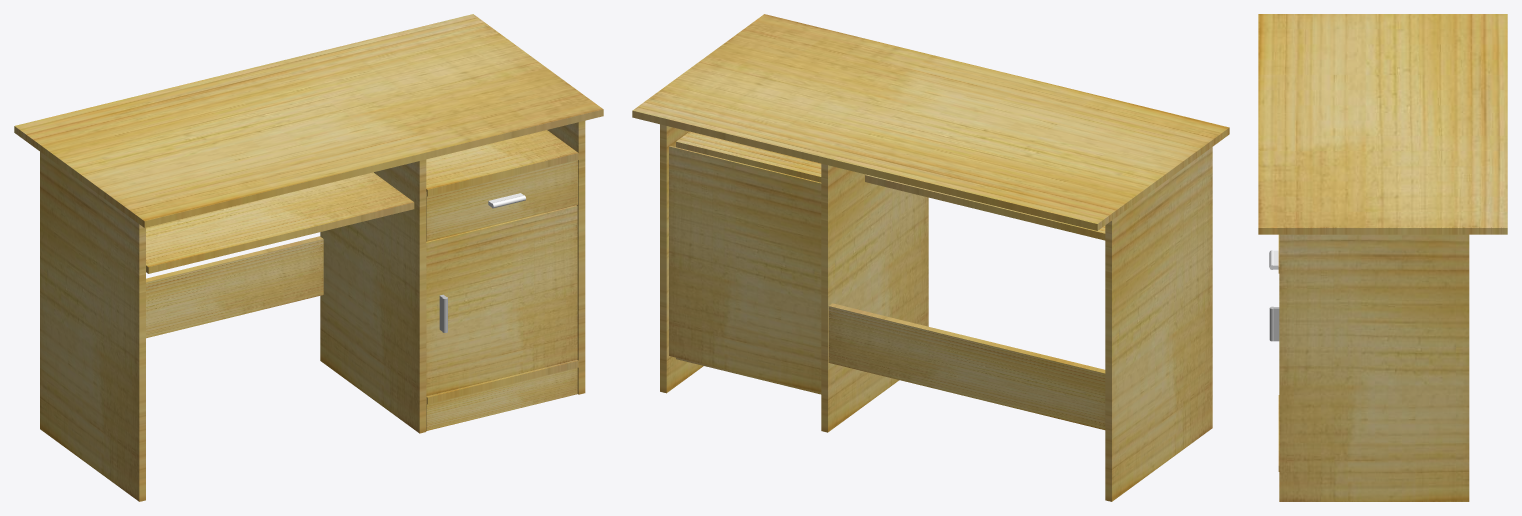
Rendered from bedroom_pcdesk.obj.
3 renders of one model, left to right at view 1: azimuth 30°, elevation 25°; view 2: azimuth 150°, elevation 25°; view 3: azimuth 270°, elevation 25°, orthographic. The views are drawn at different scales.
Parts seen in each view (by area): view 1: Cube_1_1, Cube_2_1_3, Cube_3_5, Cube_2_2, Cube_6_8, Cube_7_9, Cube_4_6, Cube_8_10, Cube_5_7, Cube_2_2_4, Cube_8_1_16; view 2: Cube_1_1, Cube_3_1_11, Cube_2_1_3, Cube_2_2, Cube_7_9, Cube_2_2_4, Cube_8_10, Cube_6_8; view 3: Cube_1_1, Cube_2_2_4.
Boxes of the visible parts, <box> form: Cube_1_1: <box>14,14,603,227</box>; Cube_2_1_3: <box>40,152,145,501</box>; Cube_3_5: <box>426,205,577,396</box>; Cube_2_2: <box>320,159,426,433</box>; Cube_6_8: <box>146,172,414,273</box>; Cube_7_9: <box>146,236,323,338</box>; Cube_4_6: <box>426,160,577,241</box>; Cube_8_10: <box>426,130,578,196</box>; Cube_5_7: <box>426,360,577,430</box>; Cube_2_2_4: <box>547,120,585,394</box>; Cube_8_1_16: <box>427,360,578,404</box>; Cube_1_1: <box>632,14,1229,230</box>; Cube_3_1_11: <box>669,146,821,392</box>; Cube_2_1_3: <box>1105,147,1212,501</box>; Cube_2_2: <box>821,163,928,432</box>; Cube_7_9: <box>828,303,1105,429</box>; Cube_2_2_4: <box>660,124,703,393</box>; Cube_8_10: <box>676,131,821,182</box>; Cube_6_8: <box>865,174,1105,240</box>; Cube_1_1: <box>1258,14,1507,234</box>; Cube_2_2_4: <box>1279,234,1469,501</box>.
Size of the model in its own units: 120 by 72.49 by 59.
Materials: 3 (1 with a texture image).
